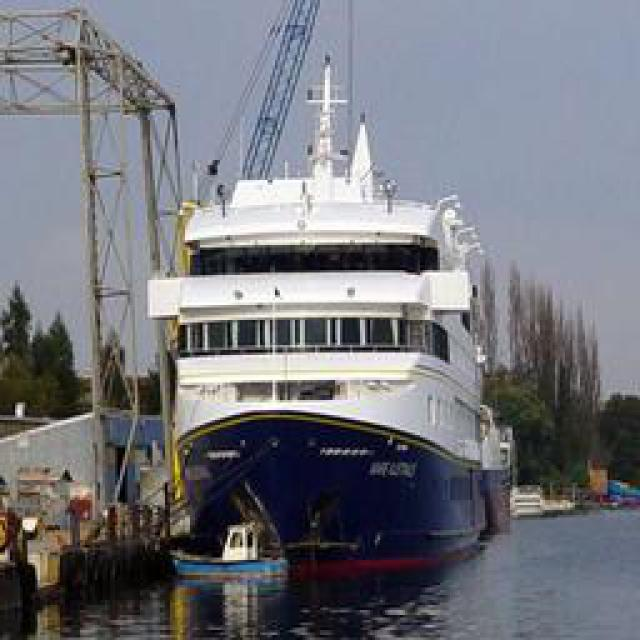Ship: (156, 68, 504, 593)
